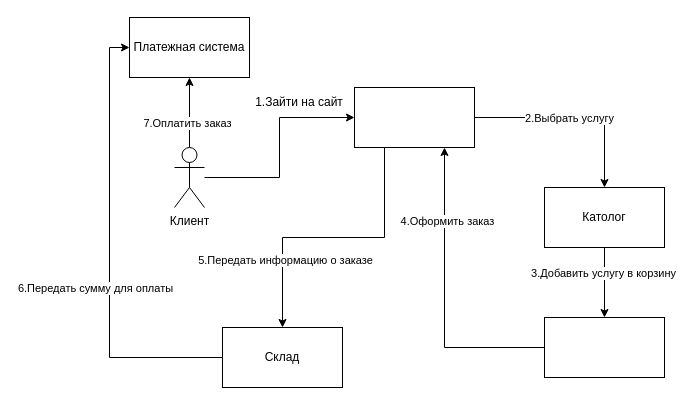
Image size: 692x405. Some labels were removed from this diagram. Each missing label, with the centre of its shape:
"Корзина покупок" goes at (604,347).
"Сайт автомастерской" goes at (414,117).
